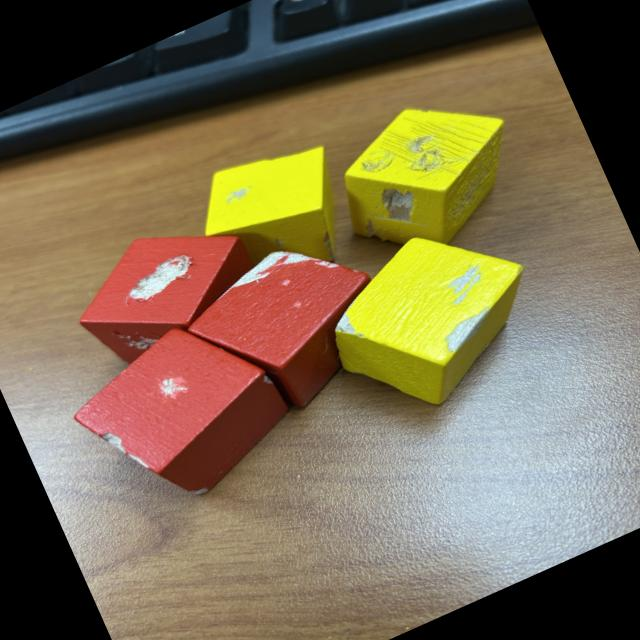broken: (304, 200, 562, 436), (55, 298, 308, 532), (171, 218, 411, 439), (314, 72, 540, 277), (56, 198, 274, 378), (182, 125, 371, 308)
